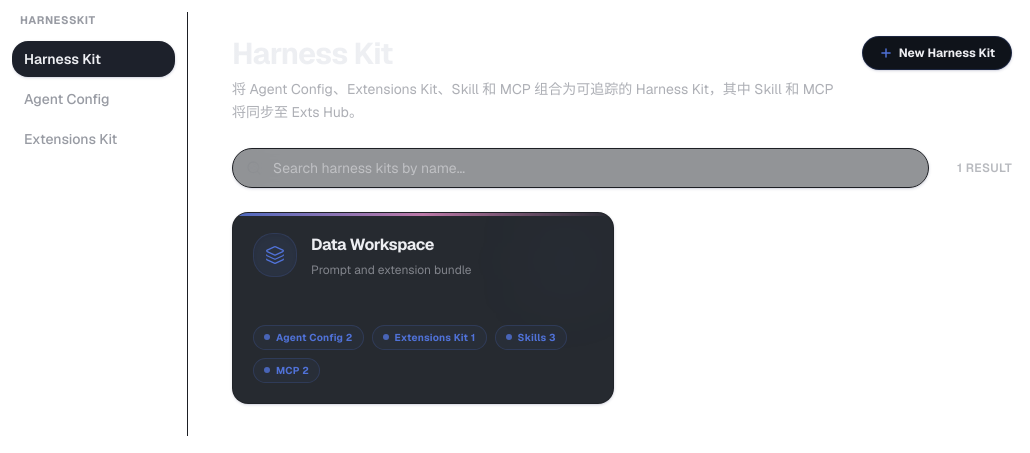
Test: HarnessKitPage › renders submenu, header, and Kit cards with asset counts
Click the button "Extensions Kit": (94, 138) [12,120,175,156]
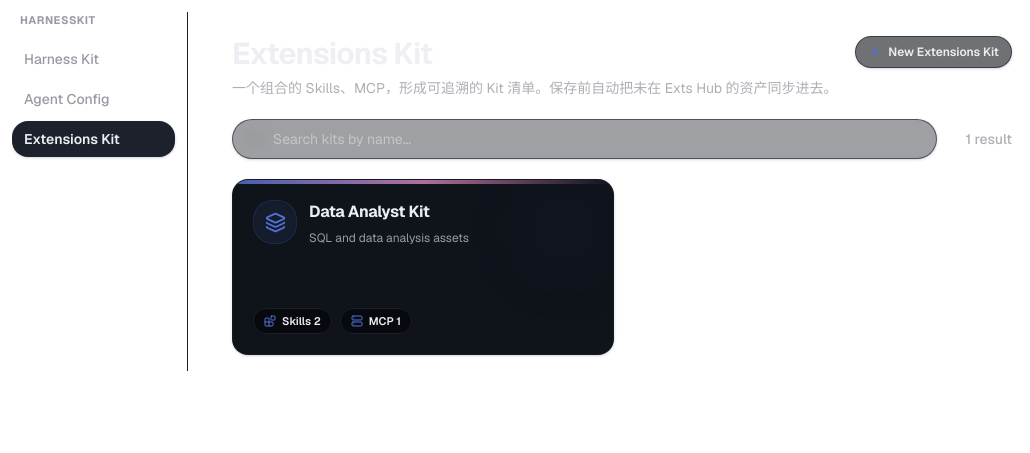
expect the button "New Extensions Kit" is shown: met, box [855,36,1012,68]
expect the text "Data Analyst Kit" is shown: met, box [309,201,430,222]
expect the text "SQL and data analysis assets" is shown: met, box [309,230,469,246]
